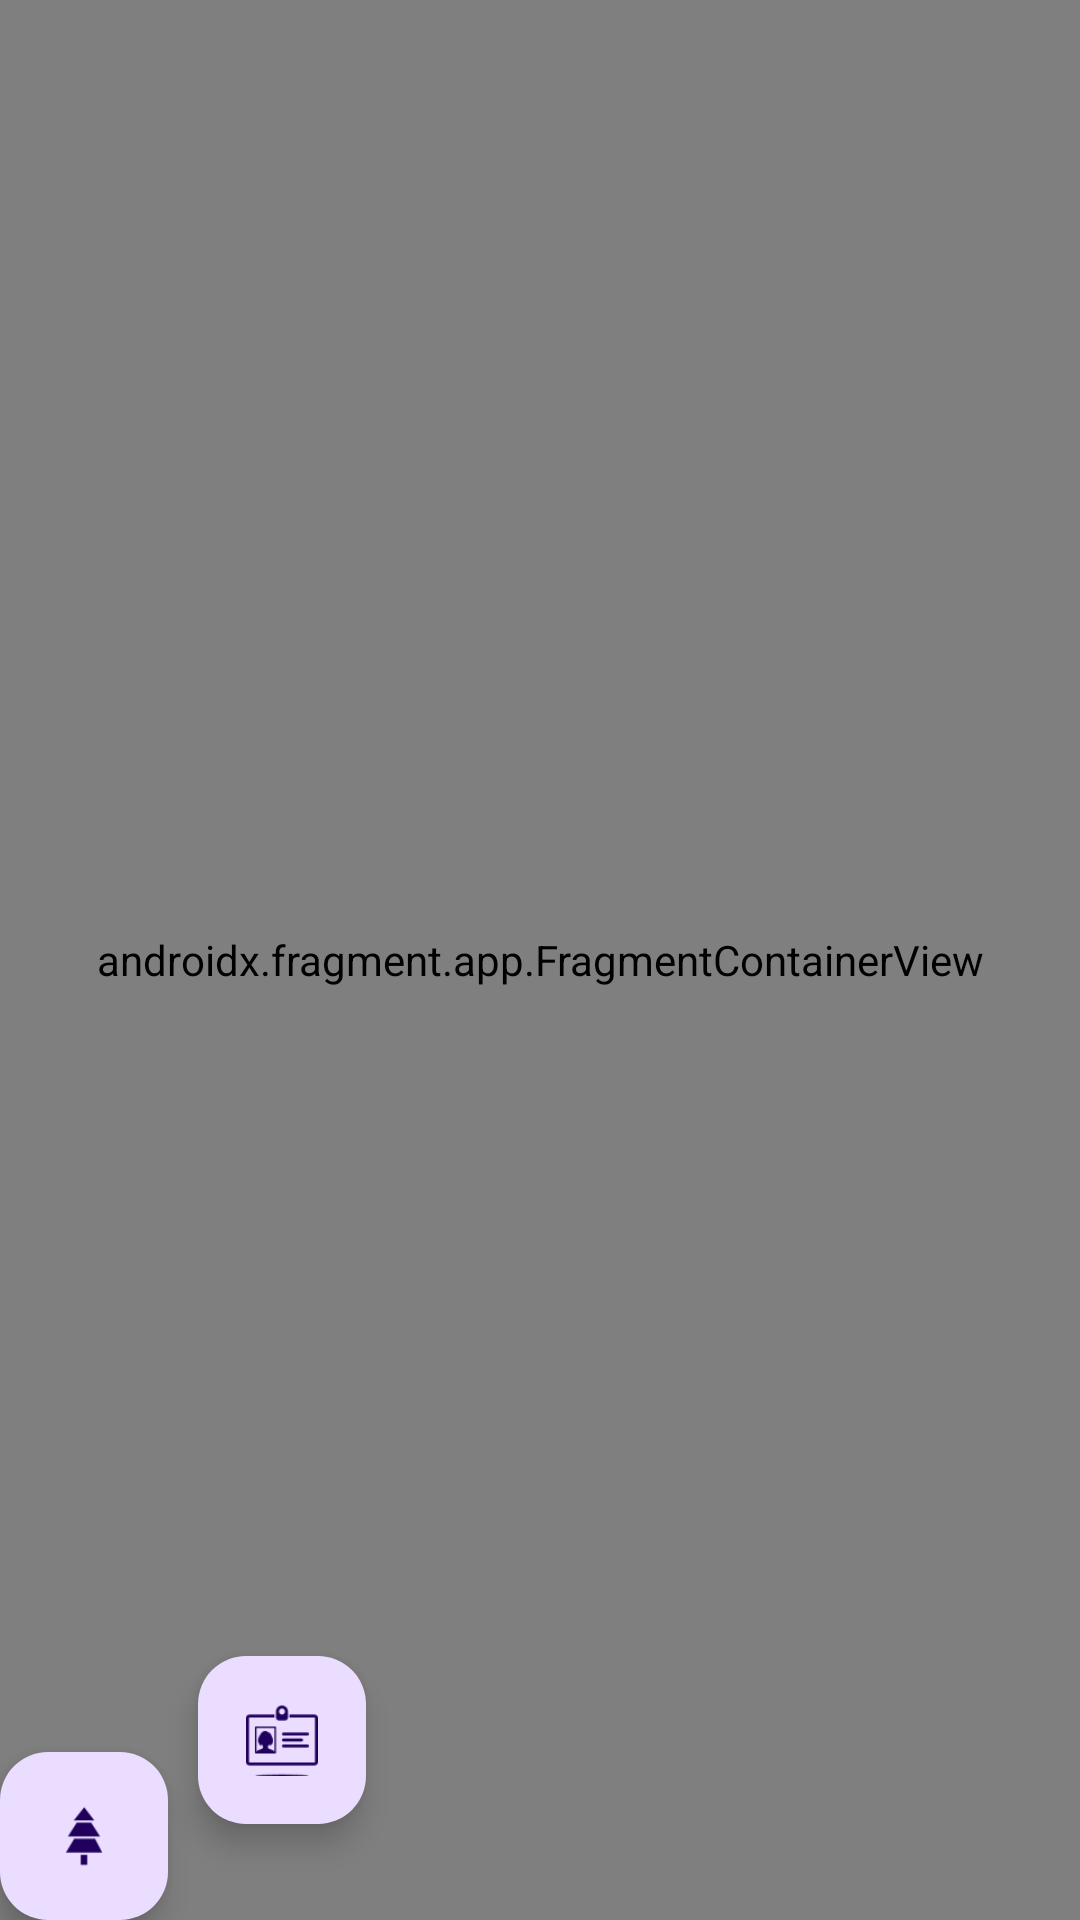

Named icons in this screenshot (1080x1920) and their bounding boxes, bbox(x1, y1, x2, y2):
Add tree: bbox(0, 1752, 168, 1920)
tree name: bbox(198, 1656, 366, 1824)
